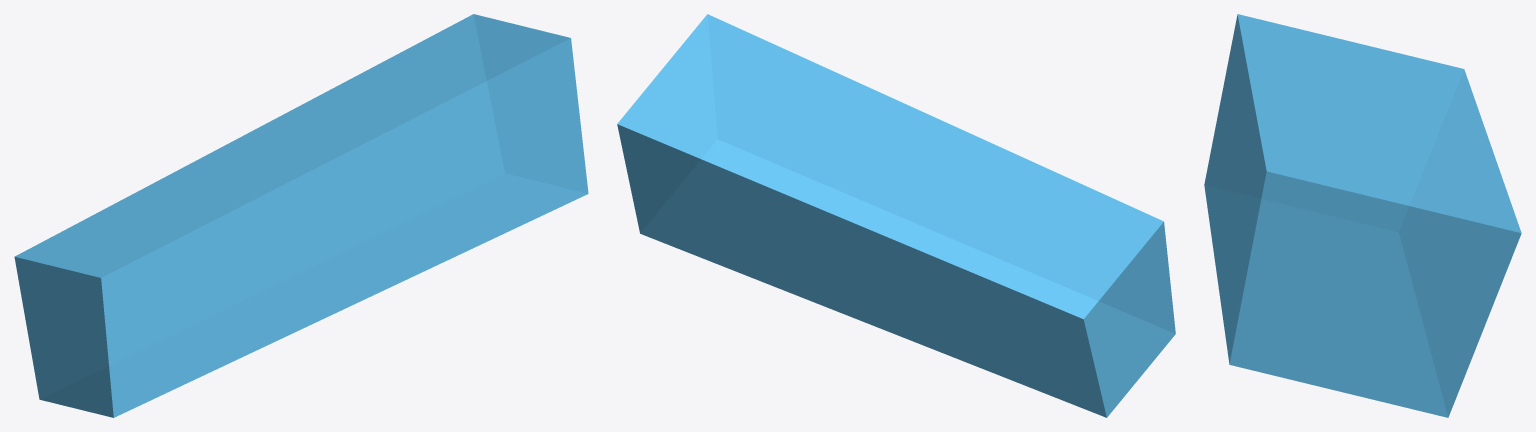
File: Event_421278790_HErechit_14.fbx
3 renders of one model, left to right at view 1: azimuth 30°, elevation 25°; view 2: azimuth 150°, elevation 25°; view 3: azimuth 270°, elevation 25°, orthographic. The views are drawn at different scales.
Parts seen in each view (by area): view 1: Model; view 2: Model; view 3: Model.
Boxes of the visible parts, bbox=[...] form: Model: bbox=[14, 14, 588, 417]; Model: bbox=[617, 14, 1175, 417]; Model: bbox=[1204, 14, 1521, 417].
Size of the model in its own units: 1.28 by 0.7081 by 0.5535.
